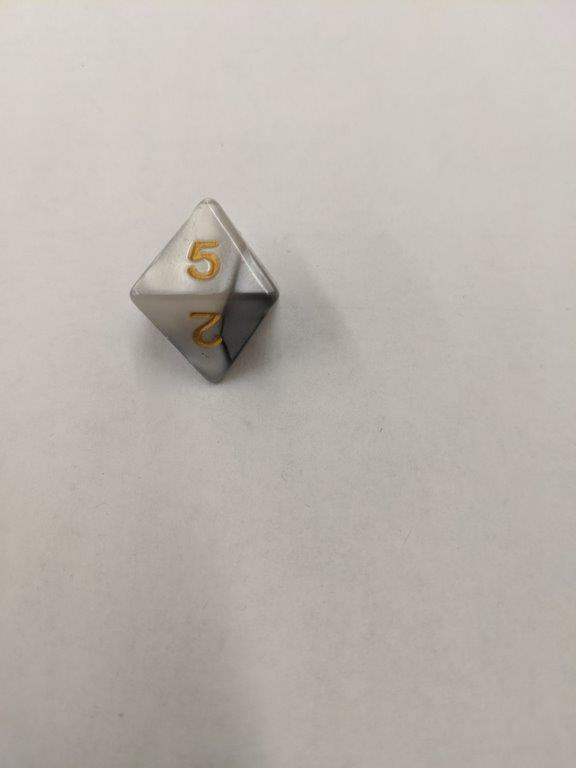d8-5: (127, 197, 282, 387)
